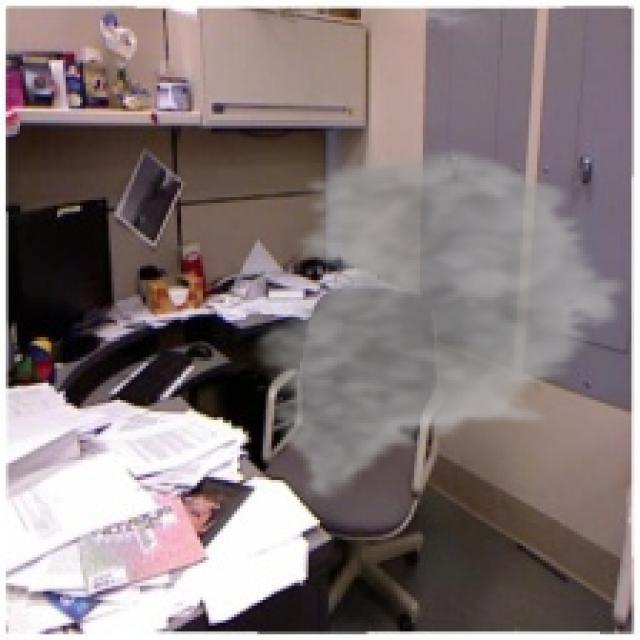Smoke: (242, 146, 634, 503)
